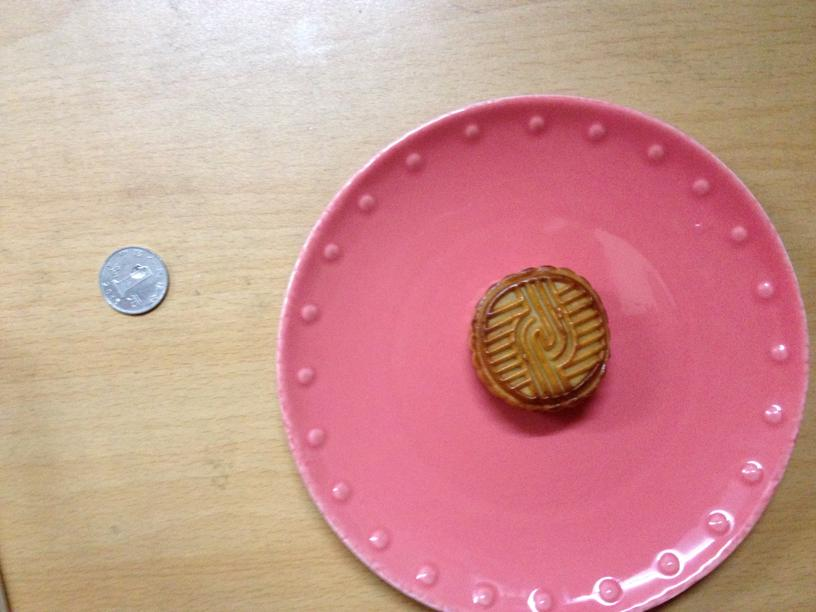coin: (96, 246, 168, 314)
mooncake: (468, 266, 610, 411)
